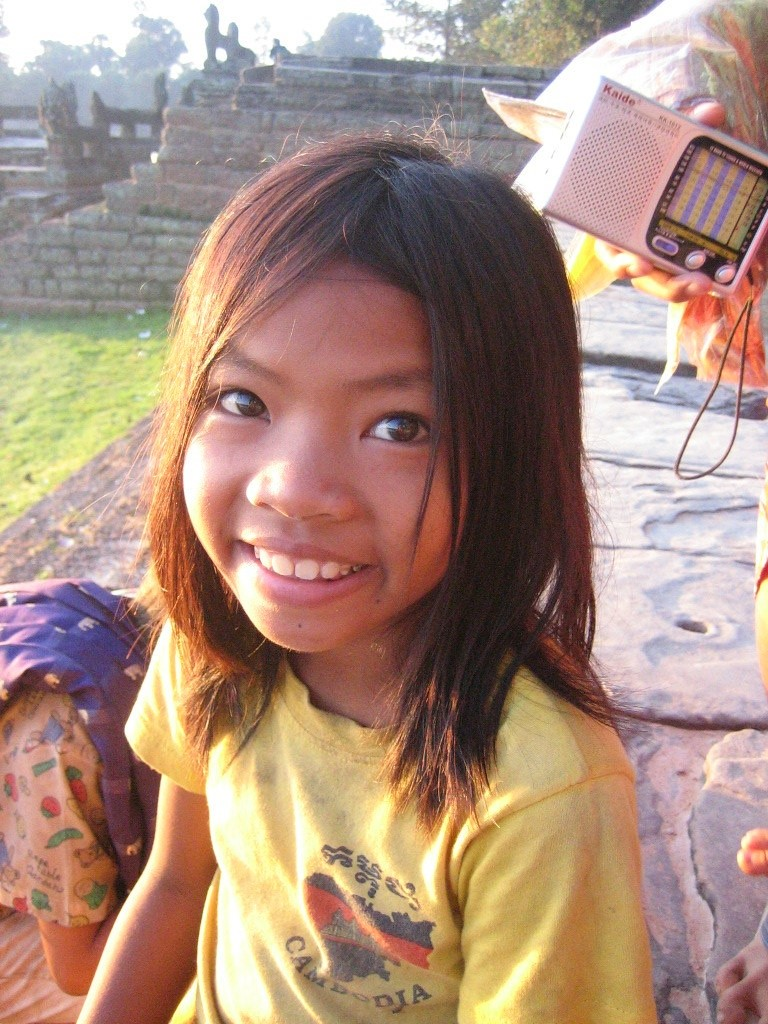face_no_mask: (180, 151, 568, 657)
